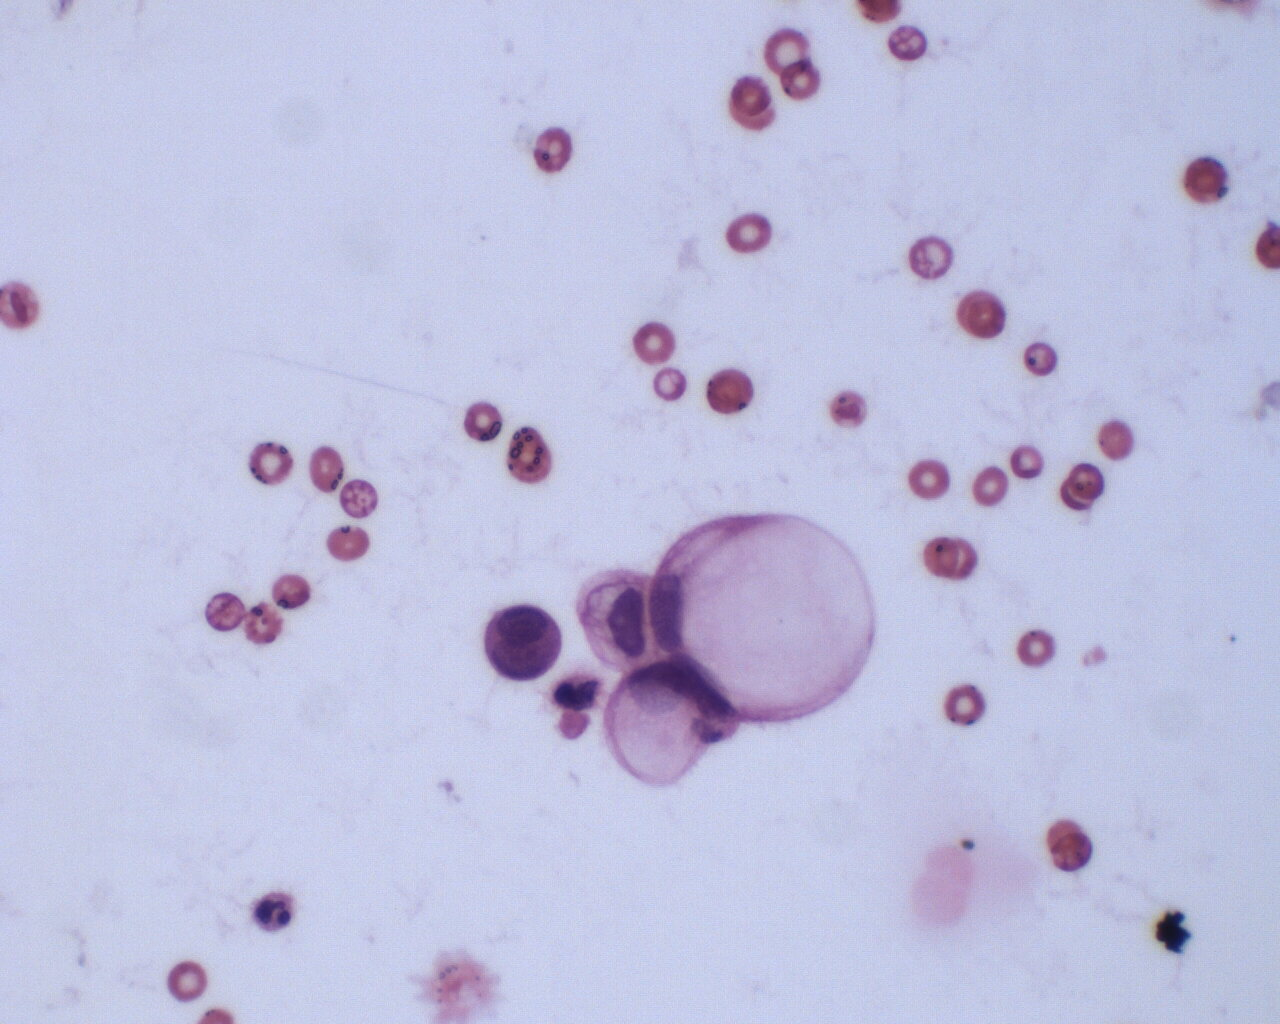histo: (647, 510, 878, 729), (598, 661, 729, 793)
meso: (481, 599, 564, 685)
